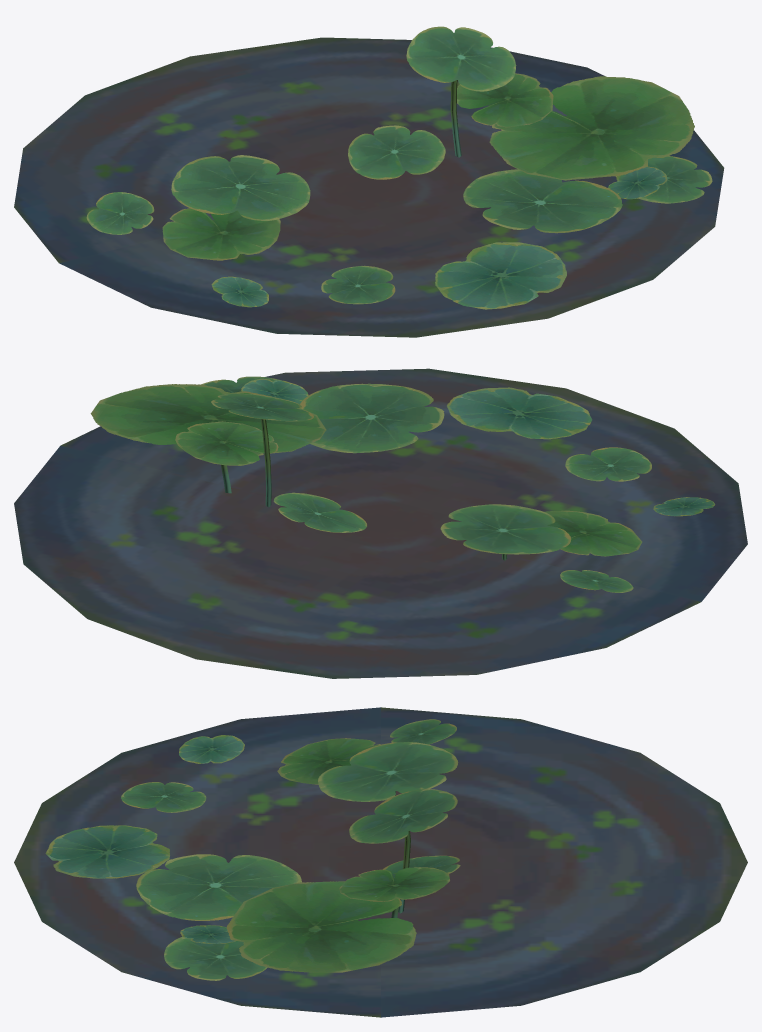
File: Homeworld_General_Common_Thing_Prop_Irodori_Viewforward_02_Vo.fbx
3 views of the same model, one above another, from view 1: azimuth 30°, elevation 25°; view 2: azimuth 150°, elevation 25°; view 3: azimuth 270°, elevation 25° (orthographic). The views are drawn at different scales.
Visible parts, largest first — view 1: Homeworld_General_Common_Thing_Prop_Irodori_Viewforward_02_V; view 2: Homeworld_General_Common_Thing_Prop_Irodori_Viewforward_02_V; view 3: Homeworld_General_Common_Thing_Prop_Irodori_Viewforward_02_V.
Boxes of the visible parts, x1,y1,x2,y2 form: Homeworld_General_Common_Thing_Prop_Irodori_Viewforward_02_V: (14, 26, 724, 337); Homeworld_General_Common_Thing_Prop_Irodori_Viewforward_02_V: (14, 368, 747, 678); Homeworld_General_Common_Thing_Prop_Irodori_Viewforward_02_V: (14, 707, 747, 1017).
Bounding box in the file's own units: 0.7233 × 0.1362 × 0.7162.
